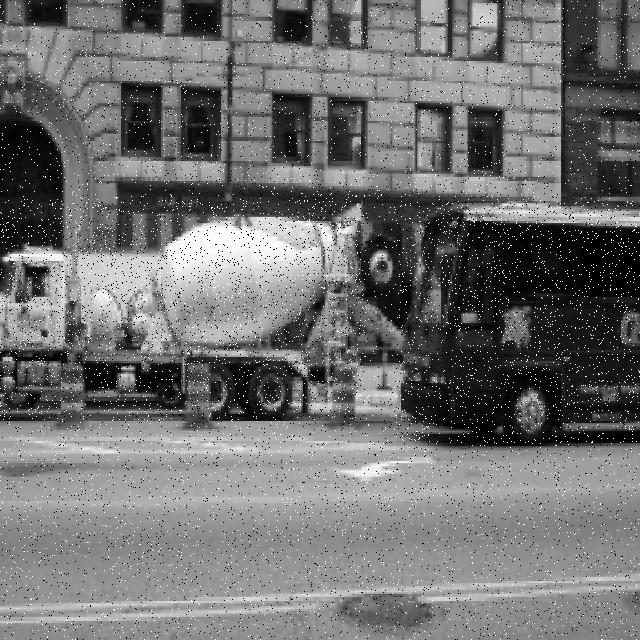Bus: (396, 202, 640, 444)
Concrete Mixer: (0, 200, 366, 420)
